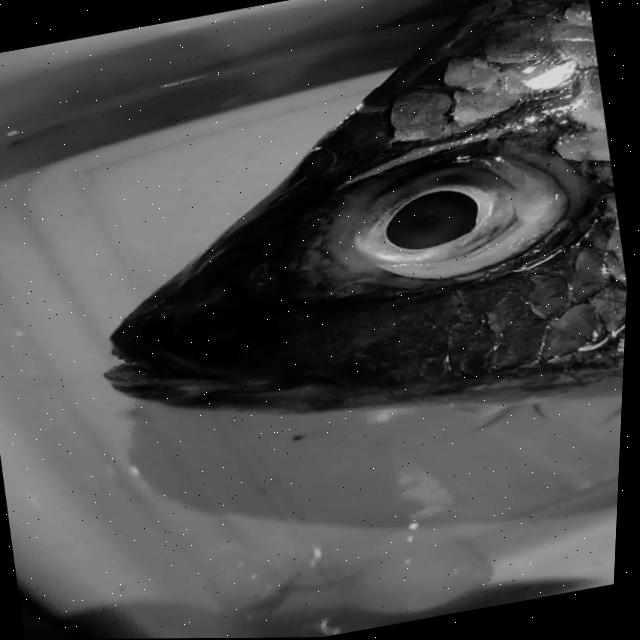Fresh: (301, 126, 594, 315)
